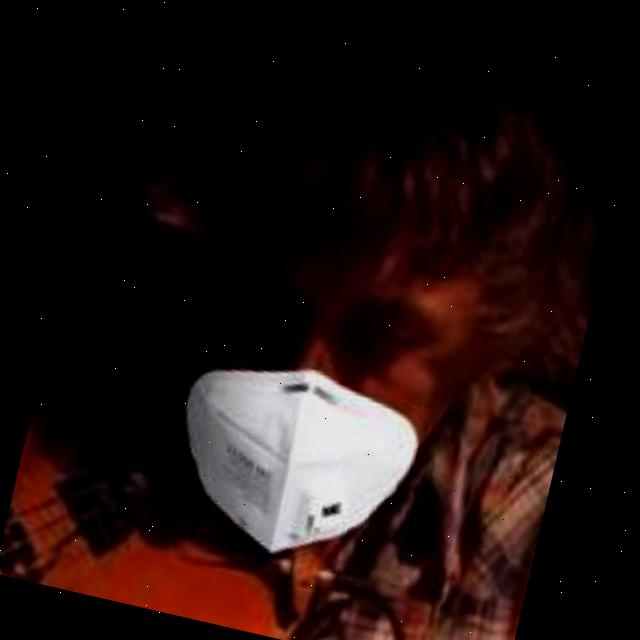suspicion: (152, 91, 560, 615)
